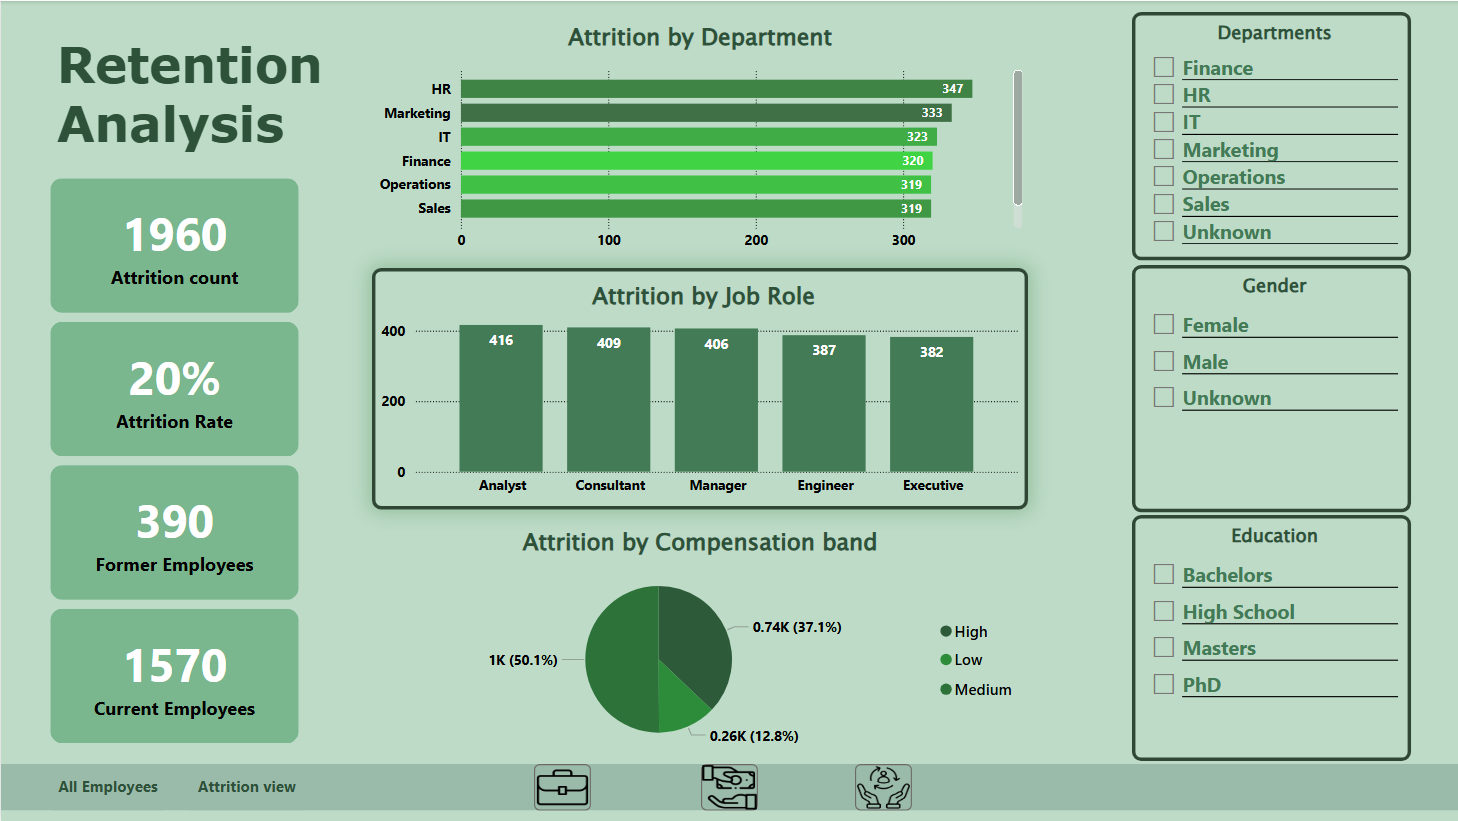

What the dashboard file says about the page in this screenshot:
{"tool":"powerbi","page":{"name":"Retention","canvas":[1280,720],"ordinal":2},"visuals":[{"type":"textbox","title":"Retention Analysis","box":[43.6,29.1,245.5,110],"z":0},{"type":"cardVisual","fields":{"Data":["HR Dataset - Cleaned.Attrition count","HR Dataset - Cleaned.Attrition Rate","HR Dataset - Cleaned.Attrition Count","HR Dataset - Cleaned.Current Employees"]},"box":[26.4,139.1,252.7,530.9],"z":1000},{"type":"shape","box":[0,670,1280,40.9],"z":2000},{"type":"columnChart","title":"Attrition by Job Role","fields":{"Category":["HR Dataset - Cleaned.JobRole"],"Y":["CountNonNull(HR Dataset - Cleaned.EmployeeID)"]},"box":[325.5,234.5,576.4,211.8],"z":3000},{"type":"clusteredBarChart","title":"Attrition by Department","fields":{"Category":["HR Dataset - Cleaned.Department"],"Y":["CountNonNull(HR Dataset - Cleaned.EmployeeID)"]},"box":[325.5,16.4,576.4,211.8],"z":4000},{"type":"pieChart","title":"Attrition by Compensation band","fields":{"Y":["CountNonNull(HR Dataset - Cleaned.Attrition)"],"Category":["HR Dataset - Cleaned.Compensation band"]},"box":[325.5,452.7,576.4,211.8],"z":5000},{"type":"slicer","title":"Departments","fields":{"Values":["HR Dataset - Cleaned.Department"]},"box":[992.7,10,244.5,218.2],"z":6000},{"type":"slicer","title":"Gender","fields":{"Values":["HR Dataset - Cleaned.Gender"]},"box":[992.7,231.8,244.5,217.3],"z":7000},{"type":"slicer","title":"Education","fields":{"Values":["HR Dataset - Cleaned.Education"]},"box":[992.7,450.9,244.5,216.4],"z":8000},{"type":"actionButton","box":[614.5,670,50,40.9],"z":9000},{"type":"actionButton","box":[468.2,670,50,40.9],"z":10000},{"type":"actionButton","box":[750,670,50,40.9],"z":11000},{"type":"actionButton","title":"All Employees","box":[43.6,670,100,40.9],"z":12000},{"type":"actionButton","title":"All Employees","box":[166.4,670,100,40.9],"z":13000}]}

Visuals, with their boxes in screenshot pixels (x1, y1, x2, y2), scaled from the page's 1280x720 canvas onto the 1458x821 screenshot:
"Retention Analysis" textbox: bbox(50, 33, 329, 159)
cardVisual - HR Dataset - Cleaned.Attrition count x HR Dataset - Cleaned.Attrition Rate: bbox(30, 159, 318, 764)
shape: bbox(0, 764, 1457, 811)
"Attrition by Job Role" columnChart: bbox(371, 267, 1027, 509)
"Attrition by Department" clusteredBarChart: bbox(371, 19, 1027, 260)
"Attrition by Compensation band" pieChart: bbox(371, 516, 1027, 758)
"Departments" slicer: bbox(1131, 11, 1409, 260)
"Gender" slicer: bbox(1131, 264, 1409, 512)
"Education" slicer: bbox(1131, 514, 1409, 761)
actionButton: bbox(700, 764, 757, 811)
actionButton: bbox(533, 764, 590, 811)
actionButton: bbox(854, 764, 911, 811)
"All Employees" actionButton: bbox(50, 764, 164, 811)
"All Employees" actionButton: bbox(190, 764, 303, 811)
